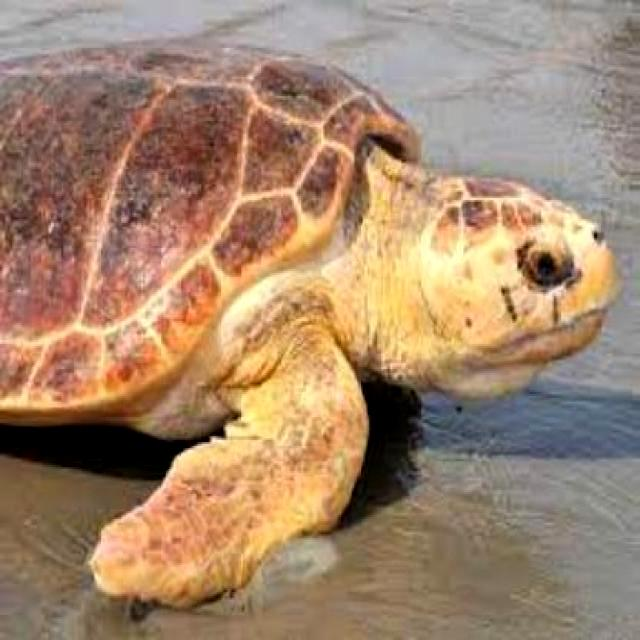Sea turtle: (0, 23, 622, 609)
